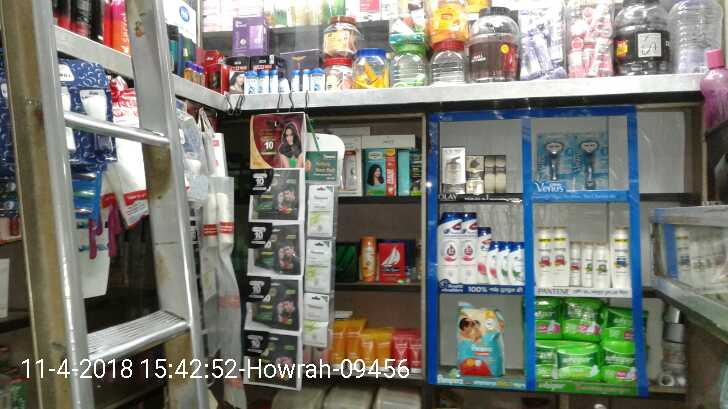venus: (539, 133, 575, 189), (575, 133, 606, 190)
